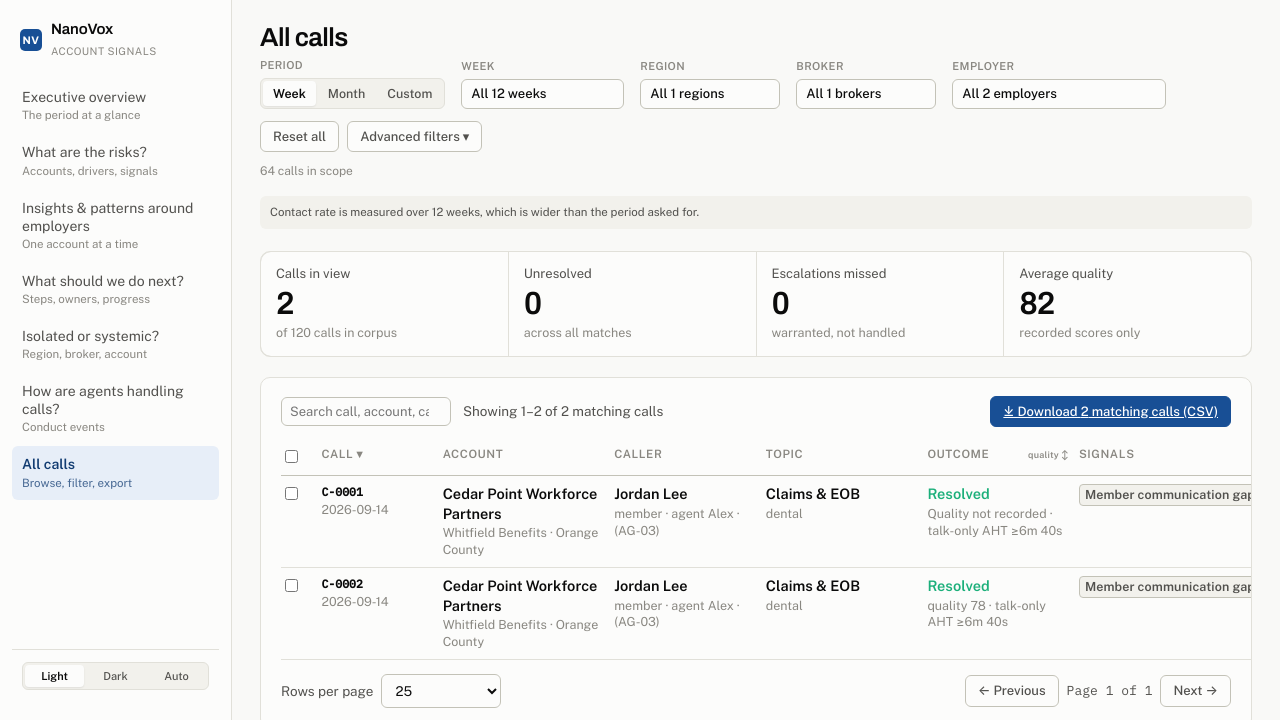
/calls › selects a page at a time, never rows the reader has not seen
The image size is (1280, 720).
Click the checkbox named "Select every call on this page" at (292, 457), box [285,450,298,463]
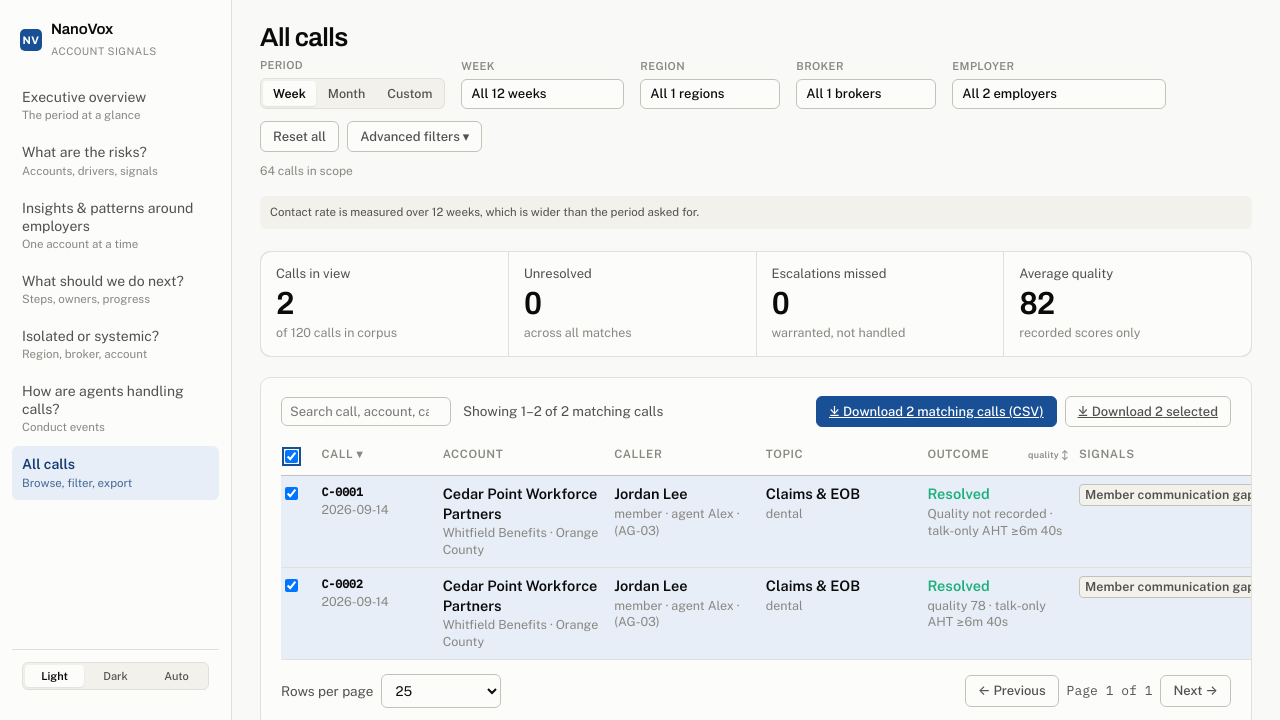
Result: the link "⤓ Download 2 selected" is shown at [1065,396,1231,427]
